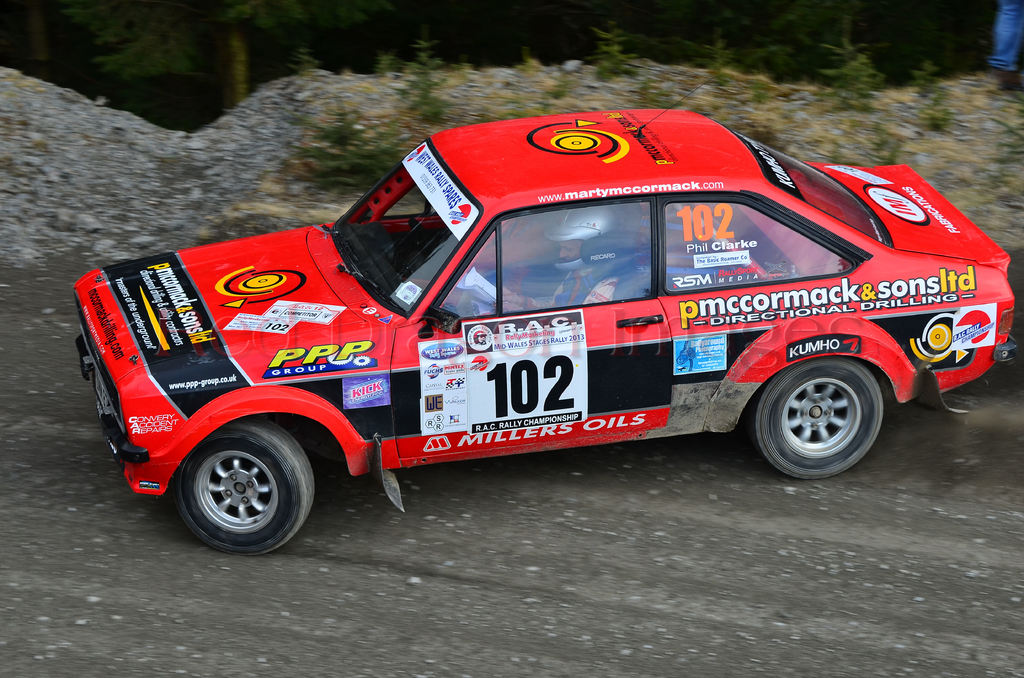Car: (81, 115, 1006, 555)
